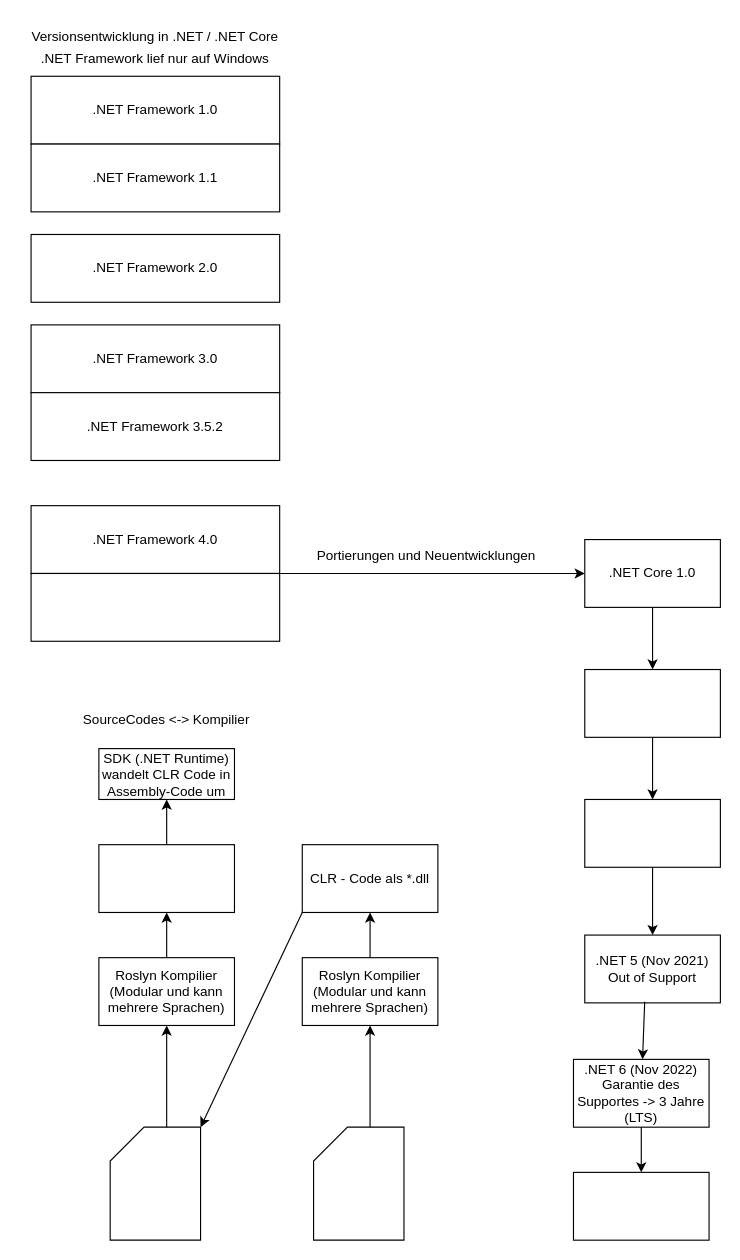
Some shapes in this 740 by 1260 pixel diagram are drawn without their labels. The centre of each missing label's shape, as x and y in pixels:
".cs if (a==b) ..." goes at point (155, 1183).
".NET 7 (Nov 2023) (Aktuell ist Preview 6)" goes at point (640, 1205).
".NET Core 2.0 / 2.1" goes at point (652, 702).
".NET Core 3.0 / 3.1" goes at point (652, 832).
".NET Framework 4.8" goes at point (155, 606).
".vb if (a==b) then ..." goes at point (358, 1183).
"CLR - Code als *.Exe" goes at point (166, 878).
